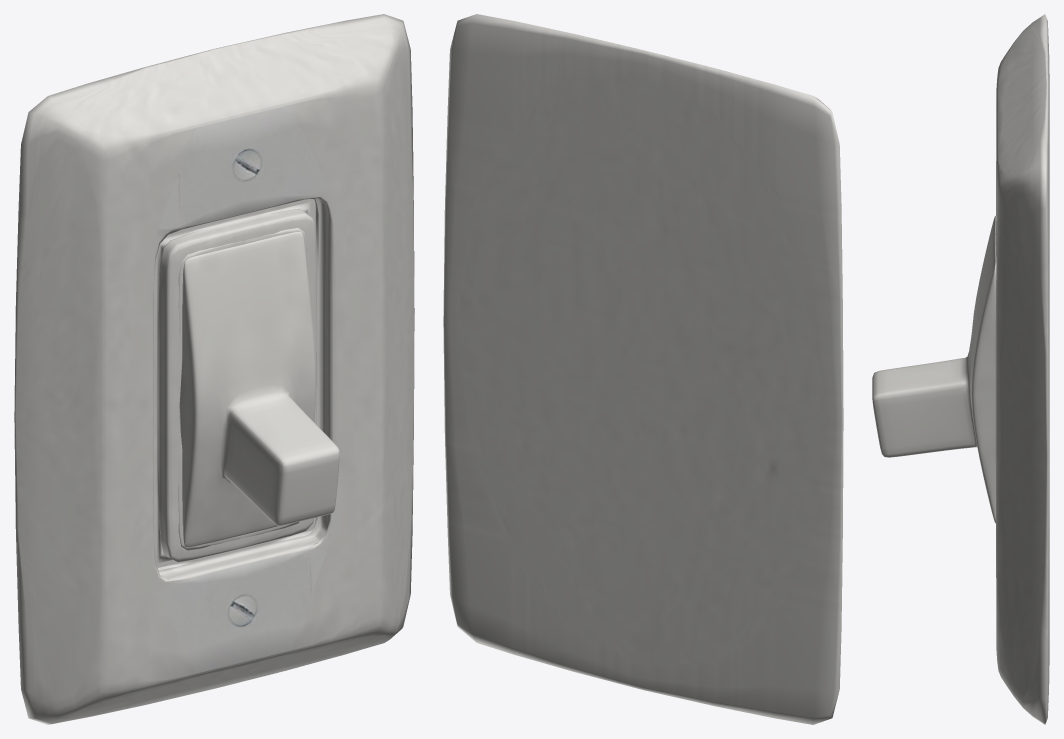
File: LightSwitch.fbx
3 views of the same model, side by side, from view 1: azimuth 30°, elevation 25°; view 2: azimuth 150°, elevation 25°; view 3: azimuth 270°, elevation 25° (orthographic). The views are drawn at different scales.
Parts seen in each view (by area): view 1: Cube; view 2: Cube; view 3: Cube.
Part boxes in pixels (bbox=[...]): Cube: bbox=[14, 14, 414, 724]; Cube: bbox=[443, 14, 843, 724]; Cube: bbox=[872, 14, 1049, 724].
Bounding box in the file's own units: 199 × 304 × 85.2.
Materials: 1 (1 with a texture image).
